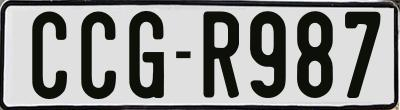7: (343, 12, 382, 99)
8: (297, 10, 339, 101)
9: (250, 11, 290, 103)
C: (81, 9, 117, 100), (29, 11, 64, 104)
G: (126, 10, 164, 102)
R: (203, 10, 242, 103)
